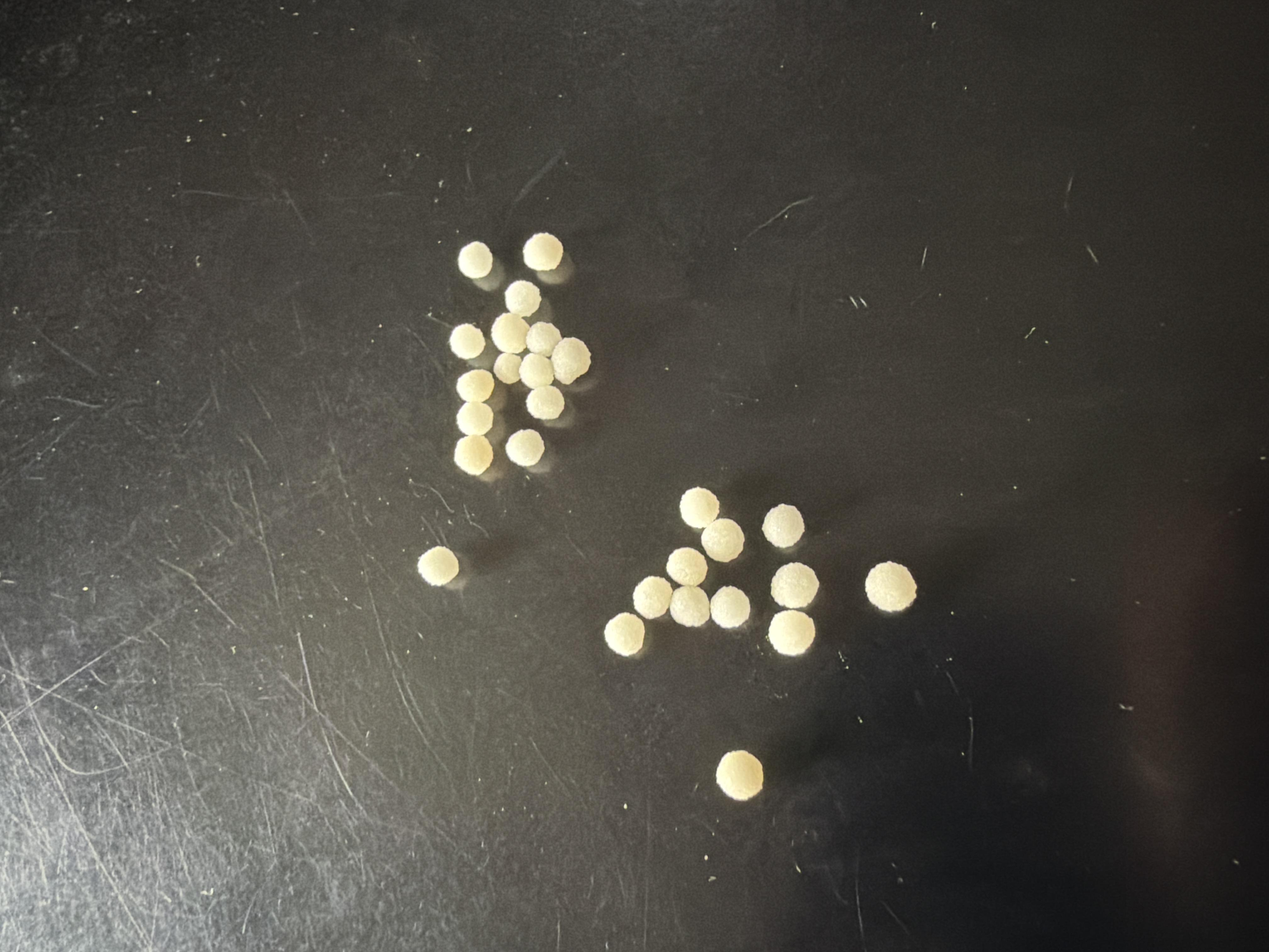pill: (865, 561, 916, 612), (716, 750, 764, 801), (767, 610, 815, 656), (770, 563, 819, 608), (701, 518, 744, 562), (551, 337, 591, 384), (762, 504, 804, 548), (604, 612, 644, 656), (633, 576, 673, 619), (669, 586, 710, 627), (710, 586, 750, 628), (417, 546, 459, 586), (679, 487, 719, 529), (666, 547, 708, 586), (490, 312, 529, 354), (522, 232, 563, 271), (454, 435, 493, 475), (505, 428, 544, 467), (457, 241, 494, 280), (526, 385, 565, 421), (504, 280, 541, 316), (449, 324, 485, 360), (526, 321, 561, 358), (519, 353, 554, 389), (456, 369, 494, 402), (457, 401, 493, 435), (493, 353, 522, 385)
